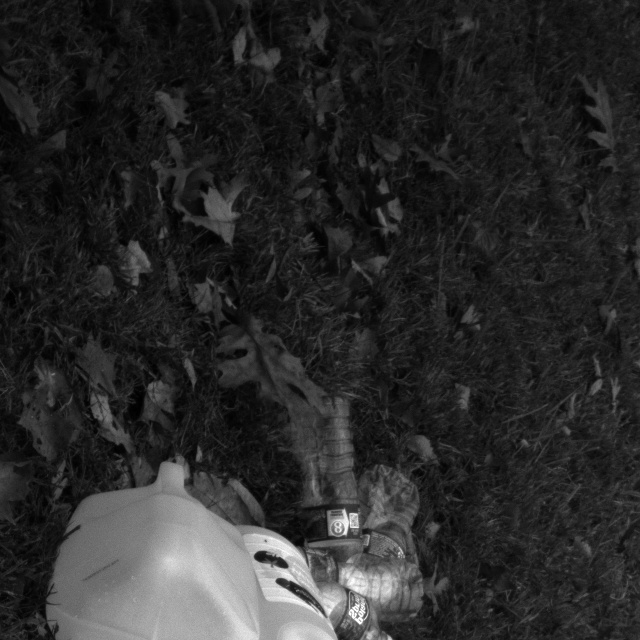bottle: (281, 389, 377, 601), (344, 458, 428, 624), (305, 566, 400, 640)
can: (42, 458, 261, 640), (198, 520, 357, 640)
